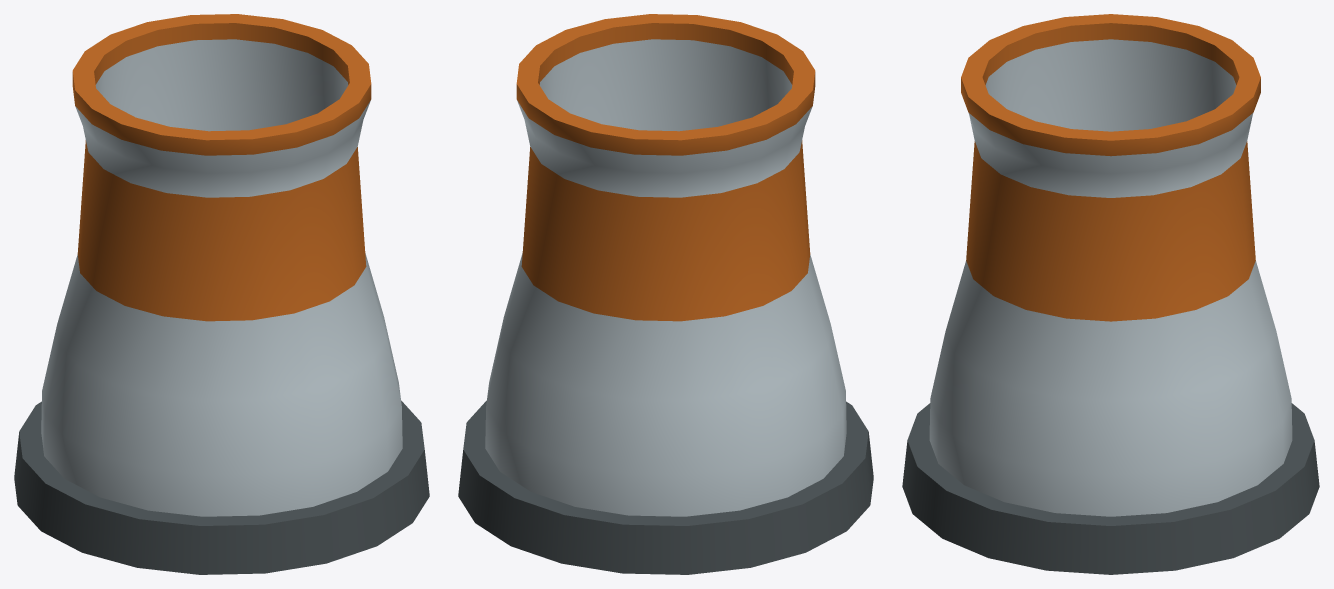
Rendered from model_polytope_dock_chimney03.fbx.
3 views of the same model, side by side, from view 1: azimuth 30°, elevation 25°; view 2: azimuth 150°, elevation 25°; view 3: azimuth 270°, elevation 25° (orthographic).
Parts seen in each view (by area): view 1: model_polytope_dock_chimney03; view 2: model_polytope_dock_chimney03; view 3: model_polytope_dock_chimney03.
Part boxes in pixels (<box>): model_polytope_dock_chimney03: <box>14,14,429,574</box>; model_polytope_dock_chimney03: <box>458,14,873,574</box>; model_polytope_dock_chimney03: <box>902,14,1319,574</box>.
Size of the model in its own units: 1491 by 1614 by 1491.
Materials: 1 (1 with a texture image).
